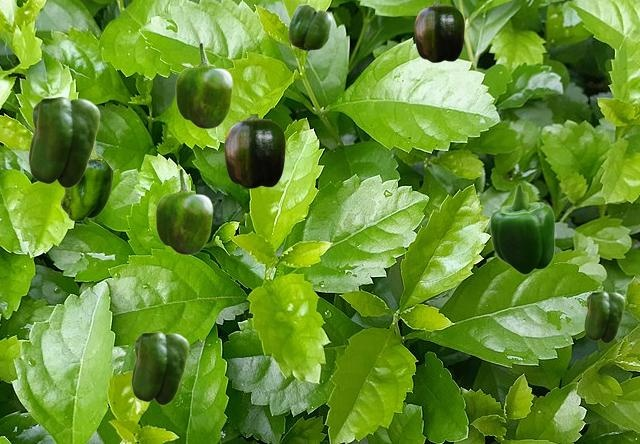bell_pepper: (28, 96, 99, 187), (489, 183, 554, 274), (155, 168, 212, 254), (175, 42, 232, 128), (224, 114, 284, 187), (131, 331, 188, 404), (60, 144, 112, 220), (414, 1, 463, 61), (584, 291, 624, 342), (288, 4, 331, 50)
